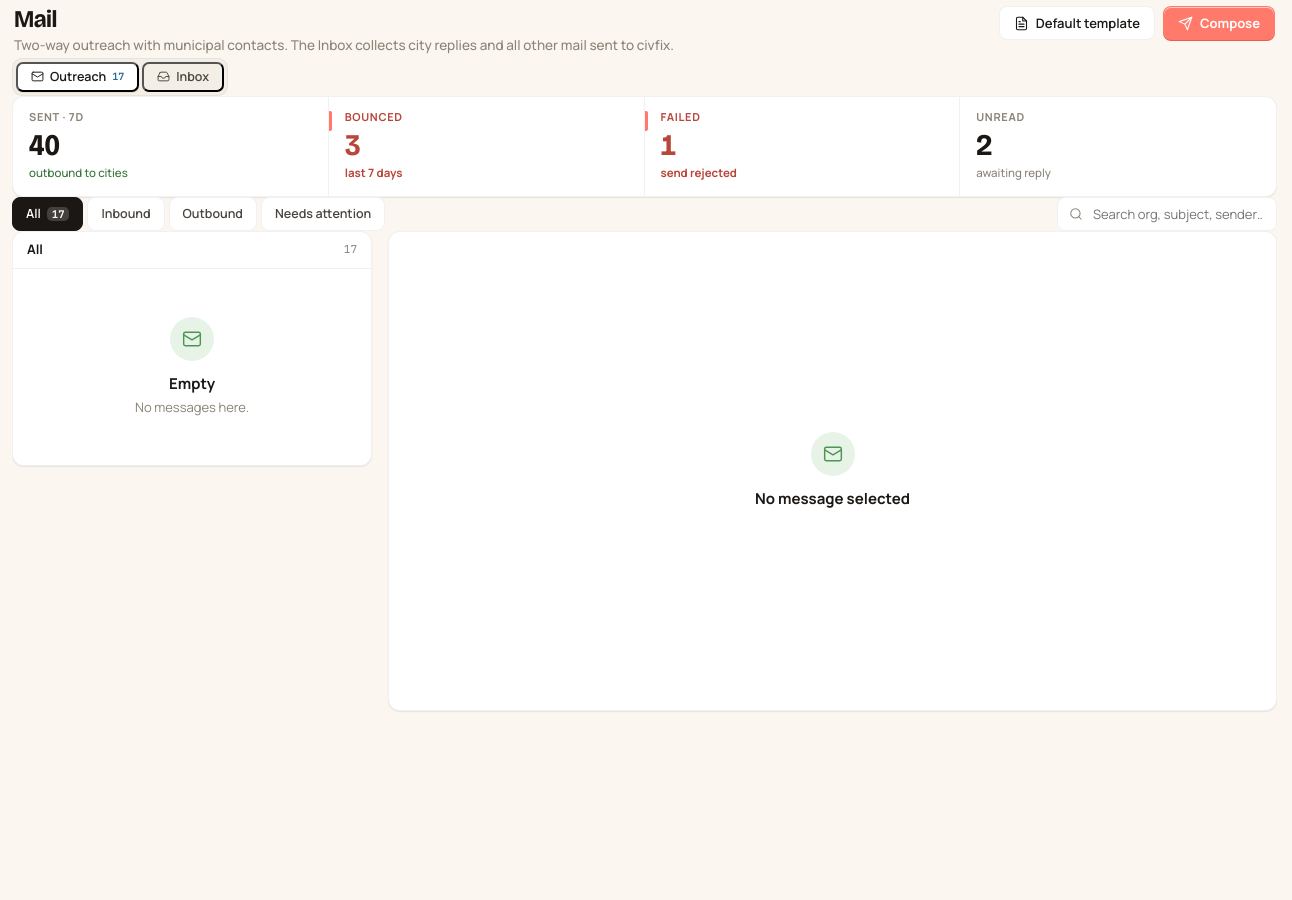
Test: MailPage inbox › shows the loading state while the inbox feed is in flight
Click the radio button labelled "Inbox": (183, 77) left=142, top=62, right=224, bottom=92
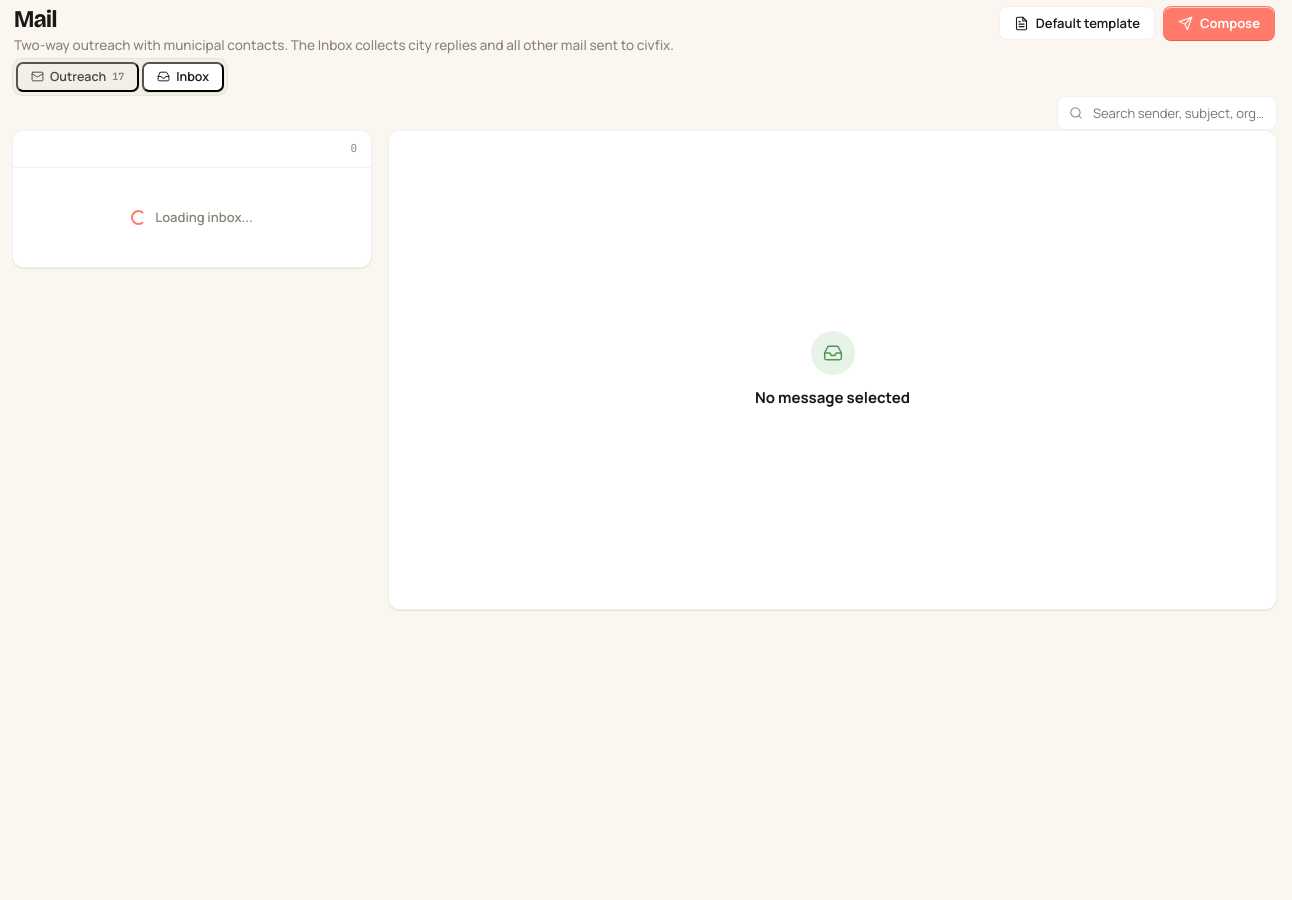
Expected: the text "No message selected" is shown, left=755, top=387, right=910, bottom=409
Expected: the message reads "Loading inbox...", left=155, top=208, right=253, bottom=226
